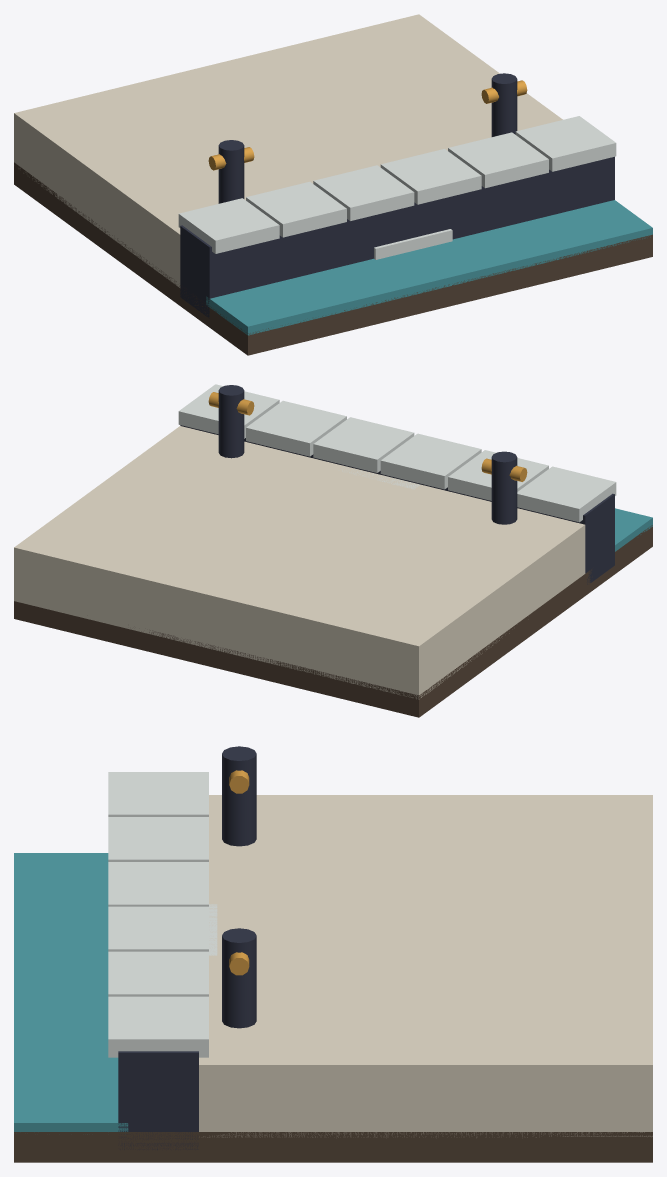
Rendered from quay_straight.glb.
3 renders of one model, top to bottom at view 1: azimuth 30°, elevation 25°; view 2: azimuth 150°, elevation 25°; view 3: azimuth 270°, elevation 25°, orthographic. The views are drawn at different scales.
Visible parts, largest first — view 1: quay_straight mist, quay_straight ink, quay_straight plaster, quay_straight water, quay_straight soil, quay_straight ochre; view 2: quay_straight mist, quay_straight plaster, quay_straight soil, quay_straight ink, quay_straight water, quay_straight ochre; view 3: quay_straight mist, quay_straight plaster, quay_straight water, quay_straight soil, quay_straight ink, quay_straight ochre.
Part boxes in pixels (x1,y1,x2,y2): quay_straight mist: (14,14,562,287); quay_straight ink: (180,73,614,318); quay_straight plaster: (178,116,616,259); quay_straight water: (206,200,652,335); quay_straight soil: (14,162,652,355); quay_straight ochre: (208,80,527,170); quay_straight mist: (14,426,585,699); quay_straight plaster: (178,384,616,522); quay_straight soil: (14,525,652,717); quay_straight ink: (180,385,614,584); quay_straight water: (615,508,652,551); quay_straight ochre: (208,392,527,481); quay_straight mist: (199,795,652,1137); quay_straight plaster: (108,772,217,1057); quay_straight water: (14,853,128,1134); quay_straight soil: (14,1132,652,1162); quay_straight ink: (118,746,256,1150); quay_straight ochre: (229,770,249,975).
Size of the model in its own units: 0.95 by 0.3 by 0.95.
